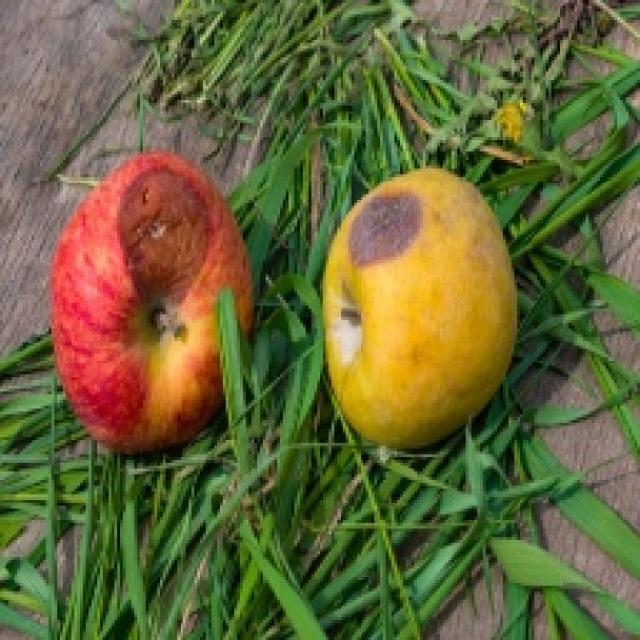rotten_apple: (56, 156, 250, 448), (328, 171, 517, 437)
